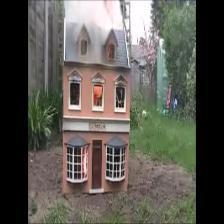fire: (91, 82, 105, 107)
